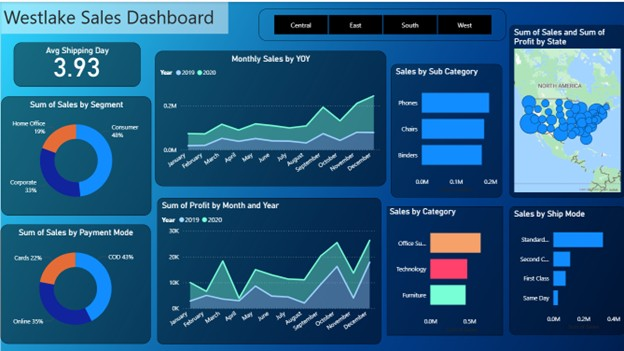

Layout of this report page (visuals, bound fields, positions):
{"tool":"powerbi","page":{"name":"Analysis","canvas":[1280,720],"ordinal":0},"visuals":[{"type":"barChart","title":"Sales by Category","fields":{"Category":["SuperStore_Sales_Dataset.Category"],"Y":["Sum(SuperStore_Sales_Dataset.Sales)"]},"box":[790.5,418.3,237,264],"z":0},{"type":"barChart","title":"Sales by Sub Category","fields":{"Y":["Sum(SuperStore_Sales_Dataset.Sales)"],"Category":["SuperStore_Sales_Dataset.Sub-Category"]},"box":[799.5,127.2,227.1,272.6],"z":1000},{"type":"barChart","title":"Sales by Ship Mode","fields":{"Y":["Sum(SuperStore_Sales_Dataset.Sales)"],"Category":["SuperStore_Sales_Dataset.Ship Mode"]},"box":[1041.9,418.3,237,262.5],"z":2000},{"type":"stackedAreaChart","title":"Monthly Sales by YOY","fields":{"Y":["Sum(SuperStore_Sales_Dataset.Sales)"],"Category":["SuperStore_Sales_Dataset.Order Date.Variation.Date Hierarchy.Month","SuperStore_Sales_Dataset.Order Date.Variation.Date Hierarchy.Day"],"Series":["SuperStore_Sales_Dataset.Order Date.Variation.Date Hierarchy.Year"]},"box":[316.5,100.2,472.4,276.8],"z":3000},{"type":"stackedAreaChart","fields":{"Category":["SuperStore_Sales_Dataset.Order Date.Variation.Date Hierarchy.Month","SuperStore_Sales_Dataset.Order Date.Variation.Date Hierarchy.Day"],"Series":["SuperStore_Sales_Dataset.Order Date.Variation.Date Hierarchy.Year"],"Y":["Sum(SuperStore_Sales_Dataset.Profit)"]},"box":[321.3,400.8,458.1,299],"z":4000},{"type":"azureMap","fields":{"Category":["SuperStore_Sales_Dataset.State"],"Size":["Sum(SuperStore_Sales_Dataset.Sales)"]},"box":[1041.8,46.9,237.7,352.8],"z":5000},{"type":"donutChart","fields":{"Y":["Sum(SuperStore_Sales_Dataset.Sales)"],"Category":["SuperStore_Sales_Dataset.Segment"]},"box":[1.5,193.8,307.4,243.8],"z":6000},{"type":"donutChart","fields":{"Y":["Sum(SuperStore_Sales_Dataset.Sales)"],"Category":["SuperStore_Sales_Dataset.Payment Mode"]},"box":[0,455.8,307.4,243.8],"z":7000},{"type":"slicer","fields":{"Values":["SuperStore_Sales_Dataset.Region"]},"box":[528.5,13.6,505.7,65.1],"z":8000},{"type":"textbox","box":[1.5,0,464.9,65.1],"z":9000},{"type":"card","title":"Avg Shipping Day","fields":{"Values":["Avg(SuperStore_Sales_Dataset.Avg_Delivery)"]},"box":[27,82.7,259.3,90.7],"z":10000}]}

Visuals, with their boxes in screenshot pixels (x1, y1, x2, y2), scaled from the page's 1280x720 canvas onto the 624x351 screenshot:
"Sales by Category" barChart: detection(385, 204, 501, 333)
"Sales by Sub Category" barChart: detection(390, 62, 500, 195)
"Sales by Ship Mode" barChart: detection(508, 204, 623, 332)
"Monthly Sales by YOY" stackedAreaChart: detection(154, 49, 385, 184)
stackedAreaChart - SuperStore_Sales_Dataset.Order Date.Variation.Date Hierarchy.Month x SuperStore_Sales_Dataset.Order Date.Variation.Date Hierarchy.Day: detection(157, 195, 380, 341)
azureMap - SuperStore_Sales_Dataset.State x Sum(SuperStore_Sales_Dataset.Sales): detection(508, 23, 623, 195)
donutChart - Sum(SuperStore_Sales_Dataset.Sales) x SuperStore_Sales_Dataset.Segment: detection(1, 94, 151, 213)
donutChart - Sum(SuperStore_Sales_Dataset.Sales) x SuperStore_Sales_Dataset.Payment Mode: detection(0, 222, 150, 341)
slicer - SuperStore_Sales_Dataset.Region: detection(258, 7, 504, 38)
textbox: detection(1, 0, 227, 32)
"Avg Shipping Day" card: detection(13, 40, 140, 85)
